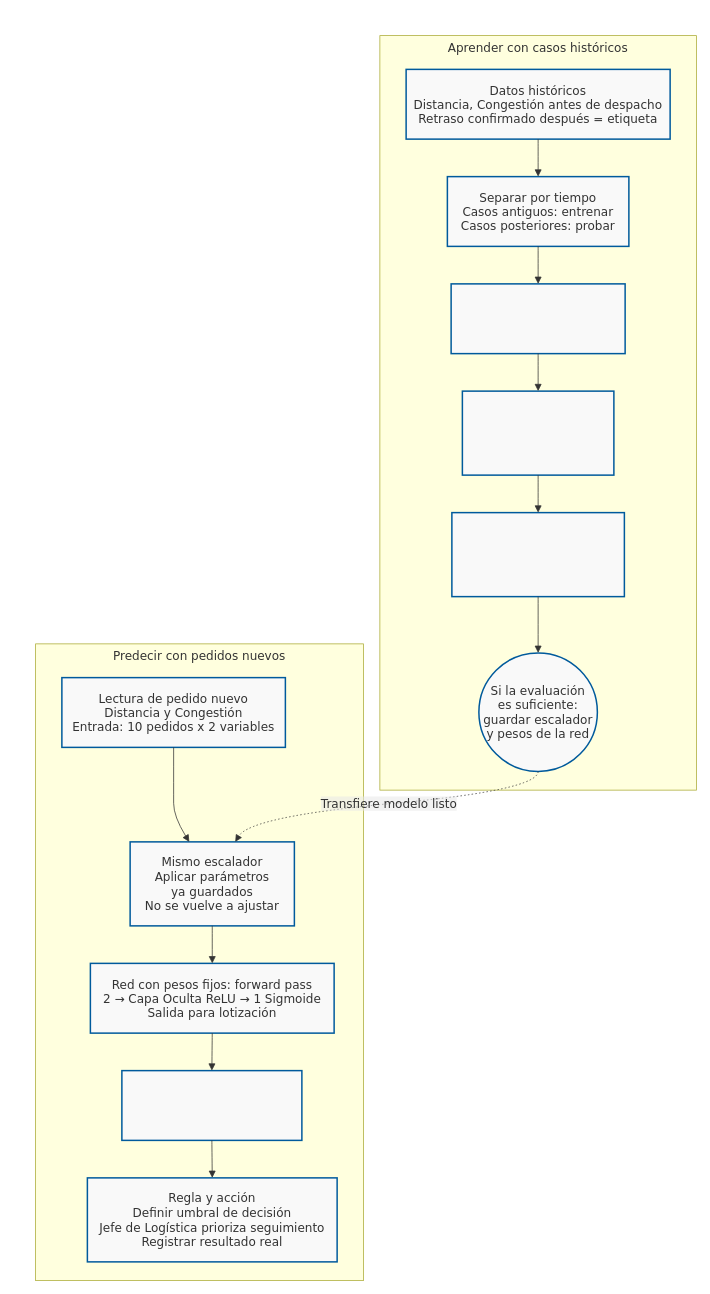
The diagram is 710 pixels wide and 1294 high, and some of its shapes have lost their labels. Here are the shapes that lost their labels. From the top down, the centre of each, then its label:
At [538,318]: "Escalador Ajustar solo con datos de entrenamiento".
At [537,433]: "Entrenar la red Ej: 2 → 4 → 1 Aprender pesos con etiquetas conocidas".
At [538,554]: "Evaluar Comparar con baseline: Regresión Logística Revisar errores".
At [211,1105]: "Probabilidad P(Retraso = 1) ej: 0.70 No es decisión por sí sola".
